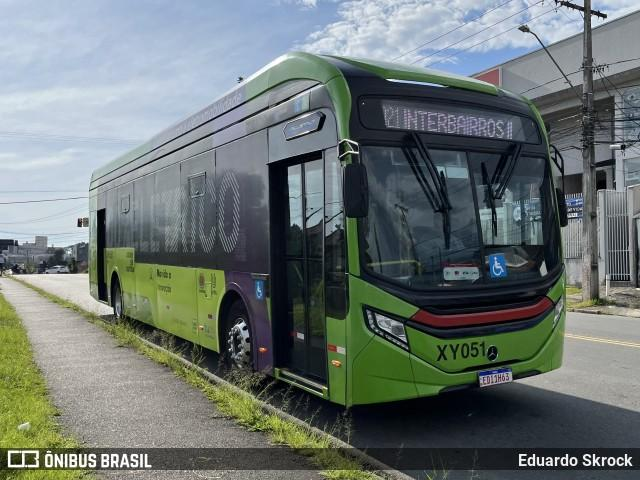INTERBAIRROS II: (400, 103, 518, 143)
